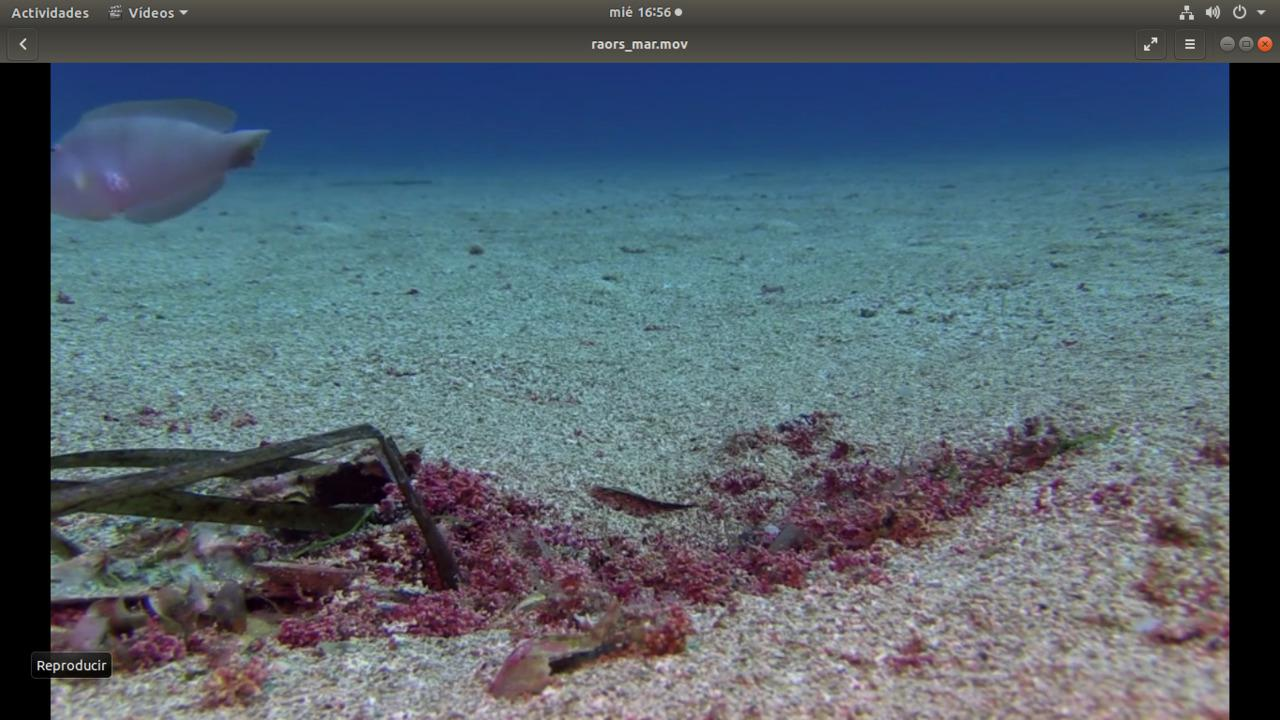raor: (48, 90, 275, 234)
